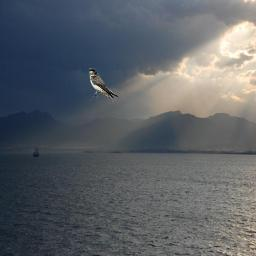Swallow: (88, 68, 119, 102)
